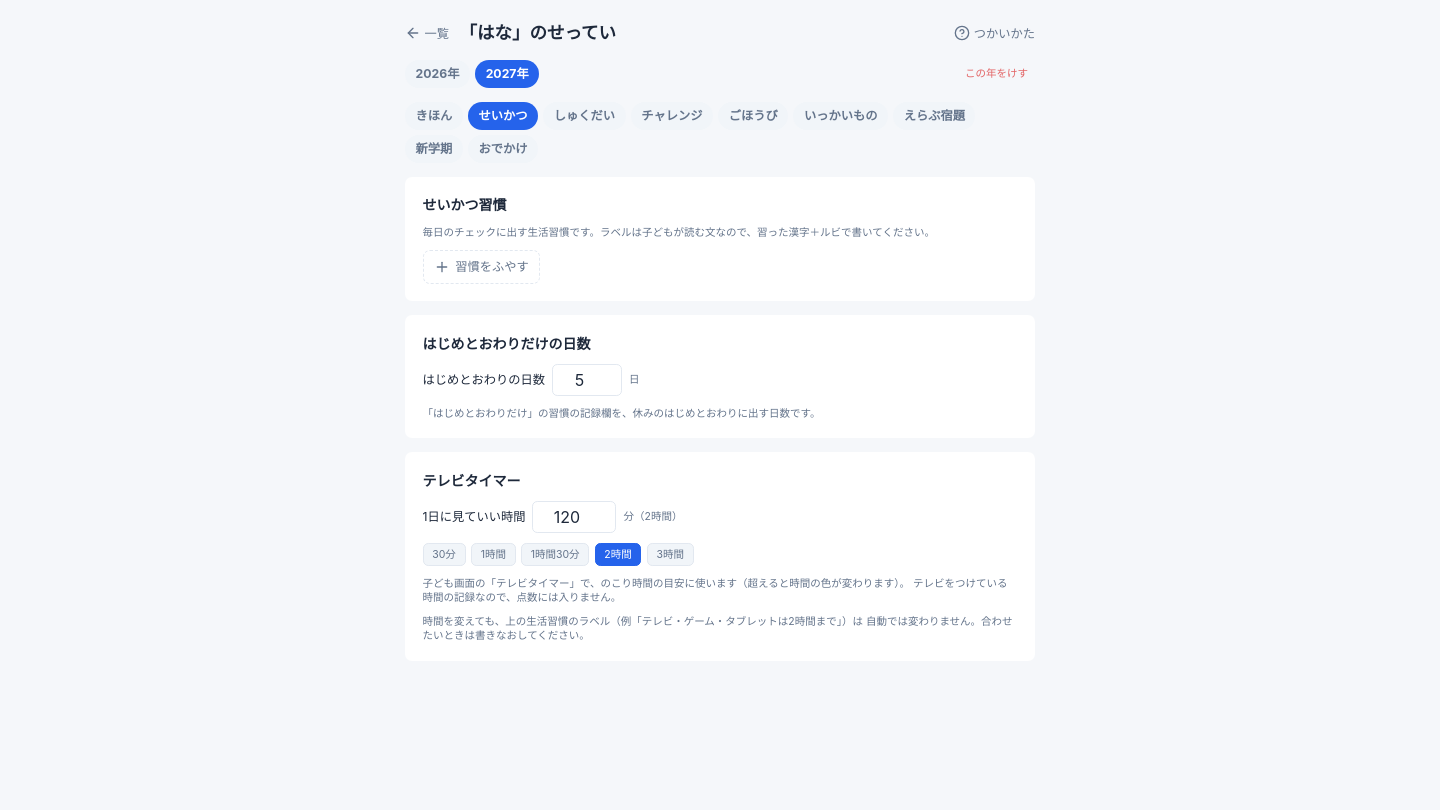
Scenario: 未保存のまま離れるとき › 同じ年のタブ切替は聞かずに通す
The width and height of the screenshot is (1440, 810).
Click the button "習慣をふやす". click: click(481, 267)
box: [422,250,540,284]
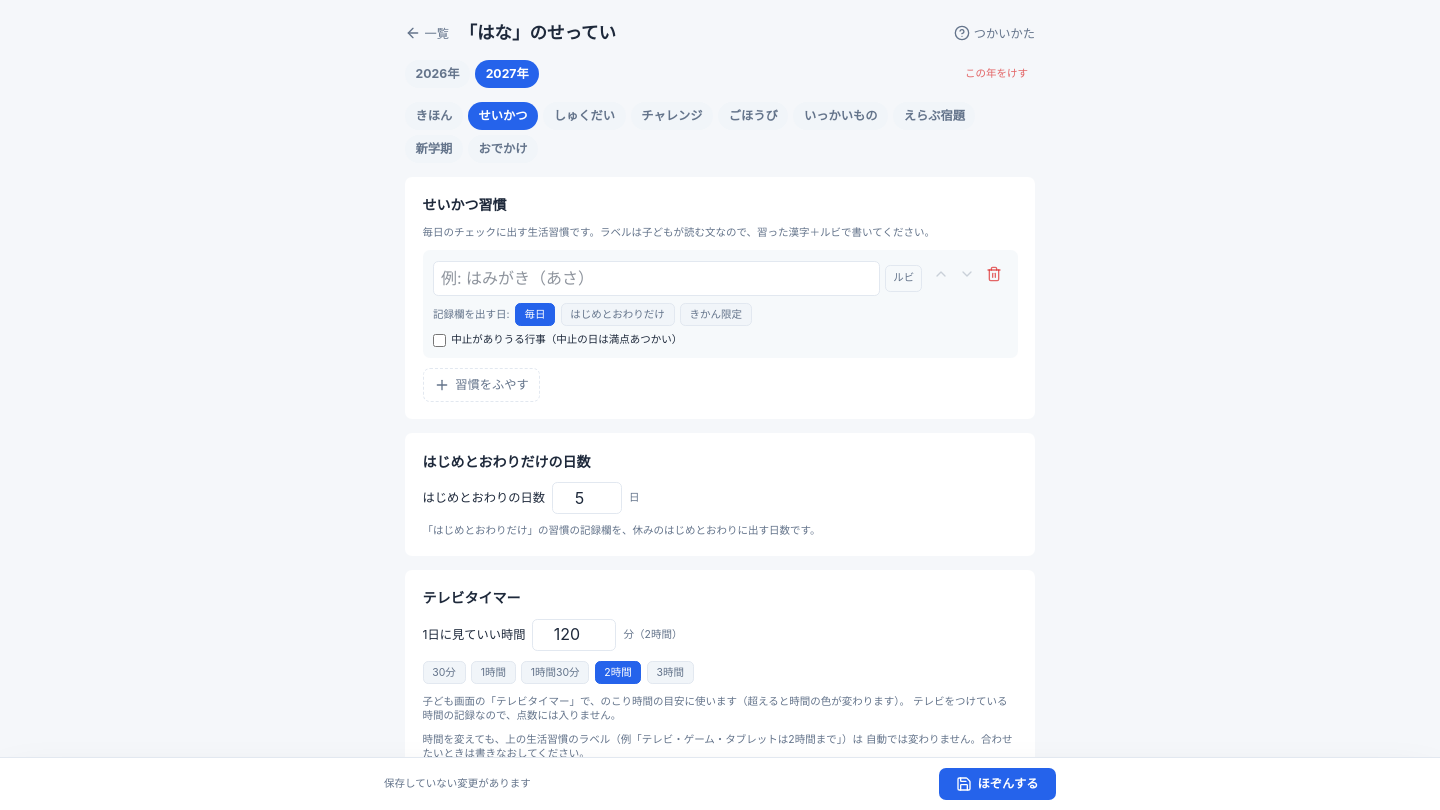
Result: the text "保存していない変更があります" is shown at [384,777,531,791]
